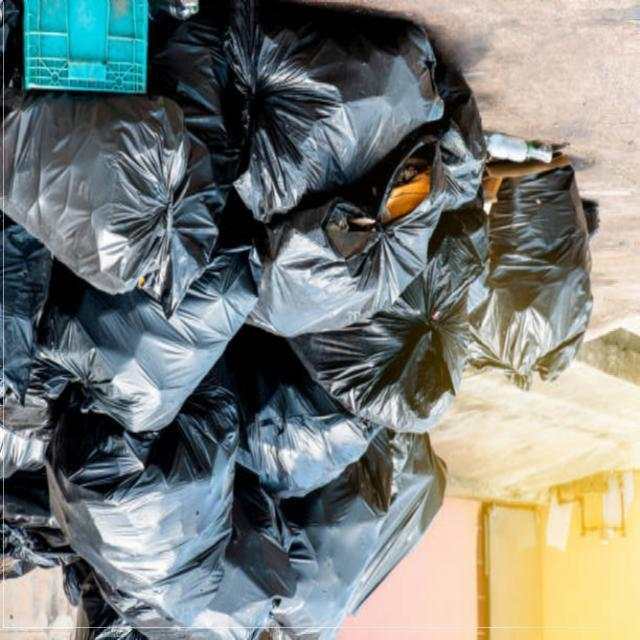Trashbag: (57, 391, 250, 632), (216, 8, 433, 200), (16, 101, 230, 278), (44, 255, 260, 416), (250, 170, 445, 337), (231, 480, 452, 624), (481, 179, 596, 363), (304, 326, 464, 424), (247, 398, 360, 490)
